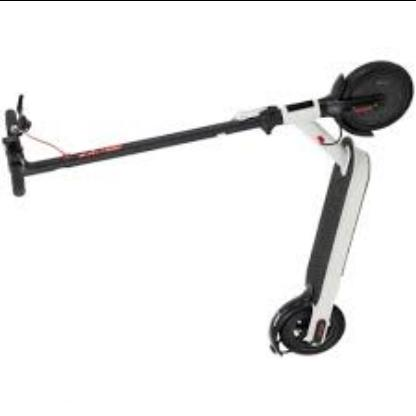bike: (1, 60, 415, 357)
